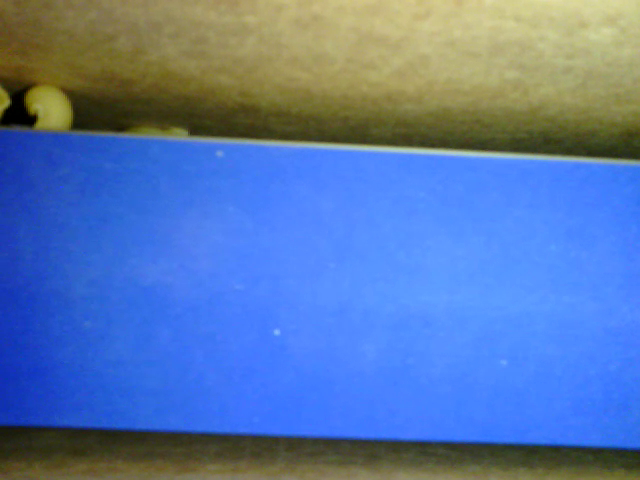shell: (22, 84, 74, 132)
